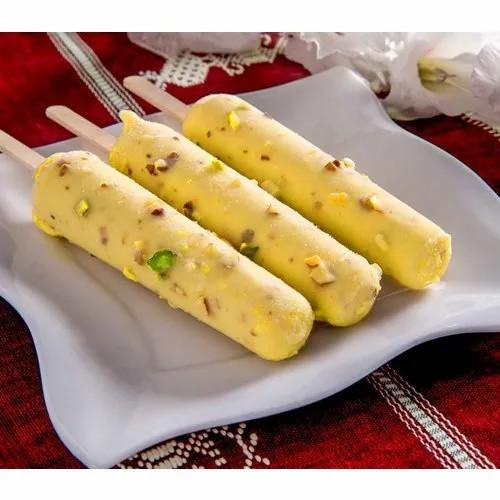Kulfi: (32, 146, 317, 361), (106, 107, 383, 326), (180, 93, 454, 289)
